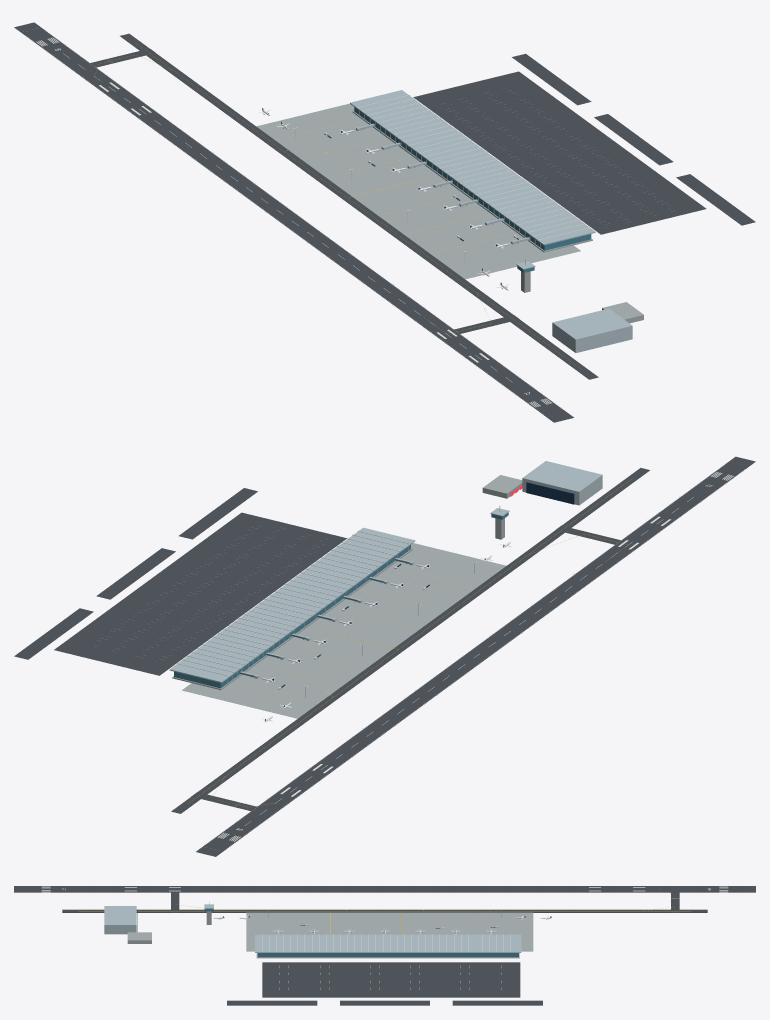
Rendered from aeropredict-airport.glb.
3 renders of one model, top to bottom at view 1: azimuth 30°, elevation 25°; view 2: azimuth 150°, elevation 25°; view 3: azimuth 270°, elevation 25°, orthographic. The views are drawn at different scales.
Parts seen in each view (by area): view 1: Airport Runway asphalt, Airport Apron concrete, Airport Roof aluminium, Airport White markings, Airport Terminal glass; view 2: Airport Runway asphalt, Airport Apron concrete, Airport Roof aluminium, Airport White markings, Airport Terminal glass; view 3: Airport Runway asphalt, Airport Apron concrete, Airport Roof aluminium, Airport Terminal glass, Airport White markings, Airport Taxiway gold, Airport Parked aircraft white.
Part boxes in pixels (bbox=[...]): Airport Runway asphalt: bbox=[14, 22, 755, 422]; Airport Apron concrete: bbox=[256, 103, 643, 323]; Airport Roof aluminium: bbox=[293, 90, 632, 352]; Airport White markings: bbox=[28, 36, 590, 414]; Airport Terminal glass: bbox=[326, 107, 591, 272]; Airport Runway asphalt: bbox=[14, 456, 755, 856]; Airport Apron concrete: bbox=[172, 475, 522, 718]; Airport Roof aluminium: bbox=[169, 461, 602, 697]; Airport White markings: bbox=[176, 465, 744, 846]; Airport Terminal glass: bbox=[174, 512, 508, 688]; Airport Runway asphalt: bbox=[14, 886, 755, 1005]; Airport Apron concrete: bbox=[127, 911, 533, 958]; Airport Roof aluminium: bbox=[104, 904, 521, 952]; Airport Terminal glass: bbox=[204, 909, 518, 956]; Airport White markings: bbox=[41, 886, 728, 989]; Airport Taxiway gold: bbox=[79, 898, 690, 934]; Airport Parked aircraft white: bbox=[213, 915, 551, 933].
Size of what is drawn, in the model's own units: 880 by 75.62 by 2300.
